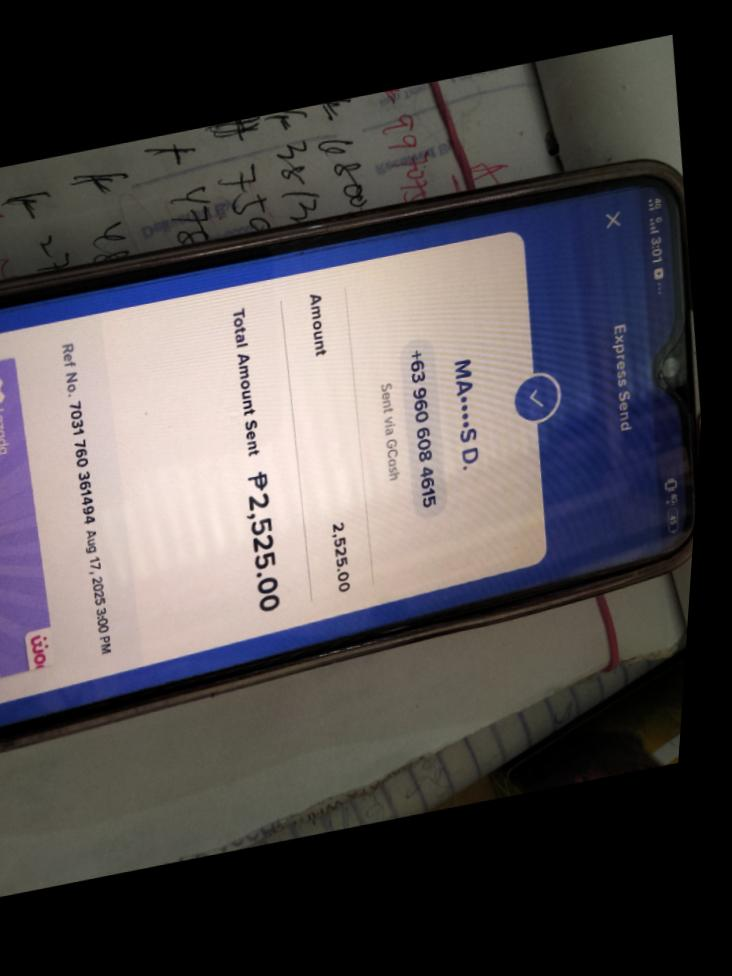Receipt: (0, 186, 692, 690)
